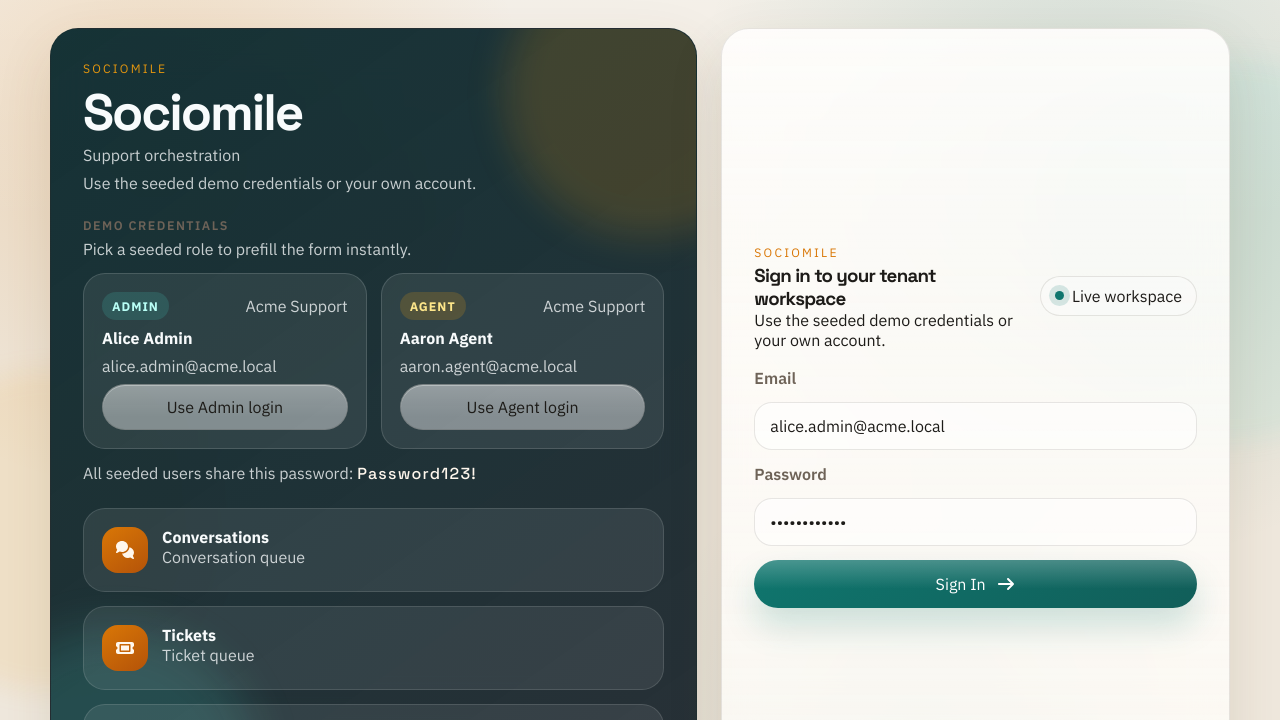
Test: LoginPage › shows the API error message when login fails
Expected: the heading "Sign in to your tenant workspace" is shown, [754, 264, 936, 310]
Click the button "Sign In" at (976, 584), box [754, 560, 1197, 608]
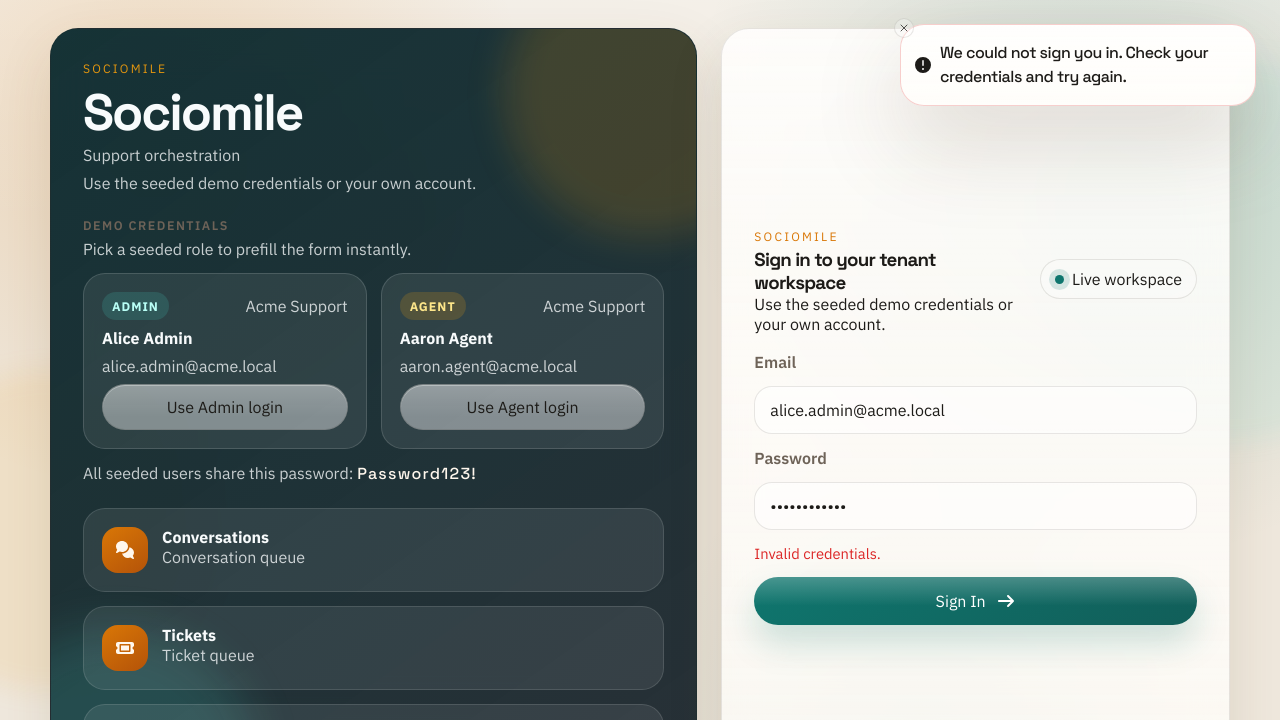
Now the text "Invalid credentials." is shown, box [754, 544, 881, 563]
